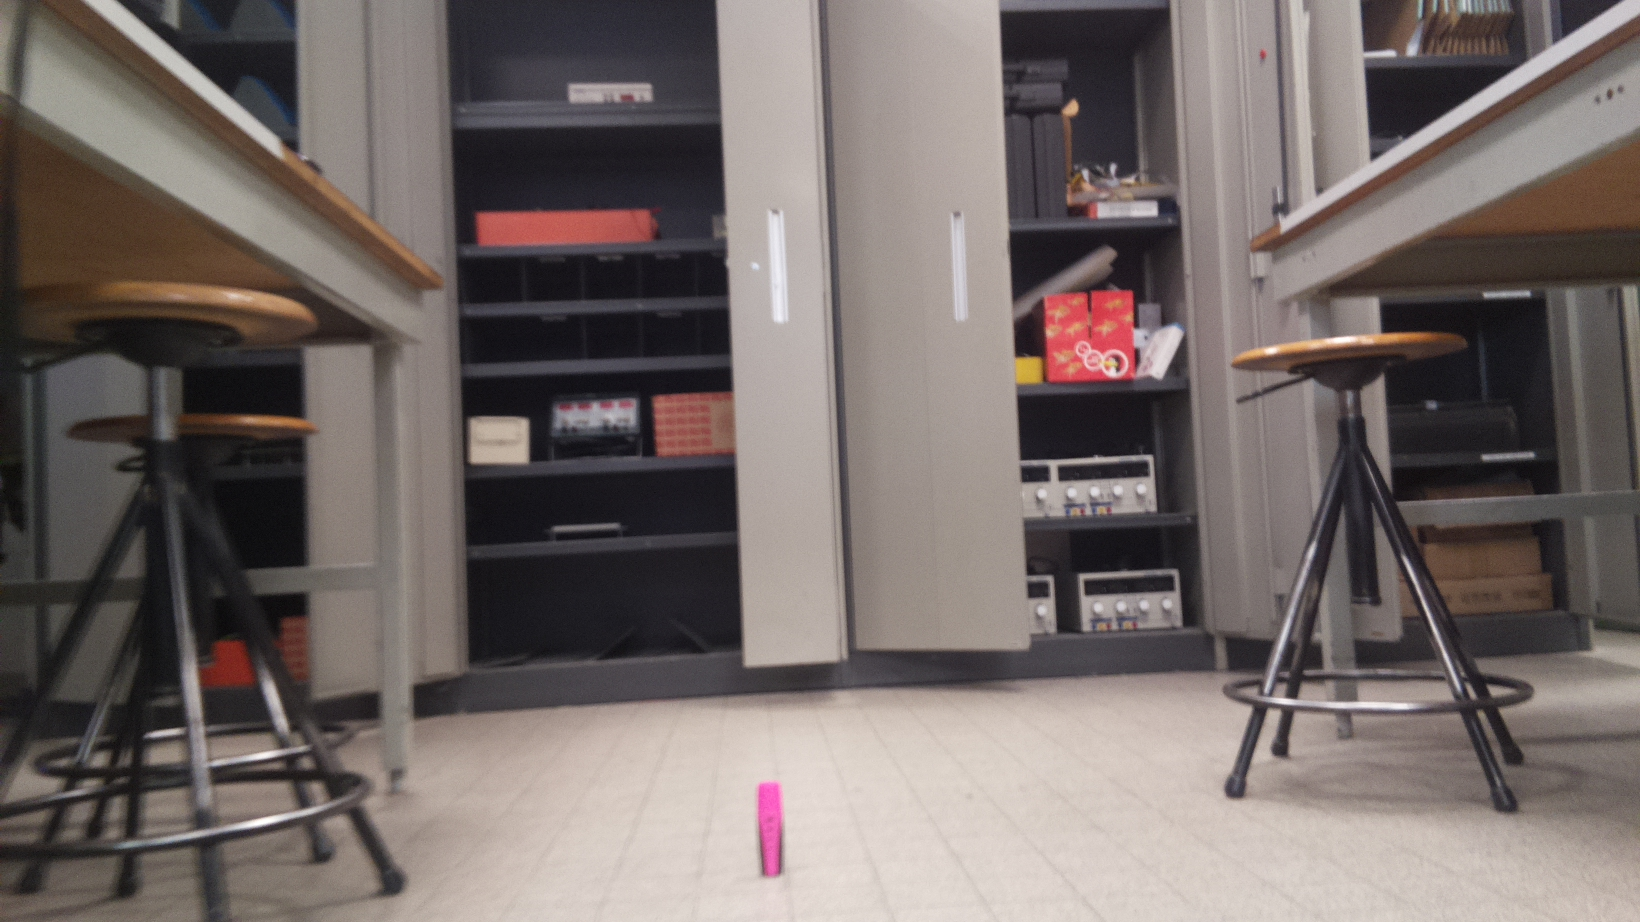small: (751, 777, 788, 884)
